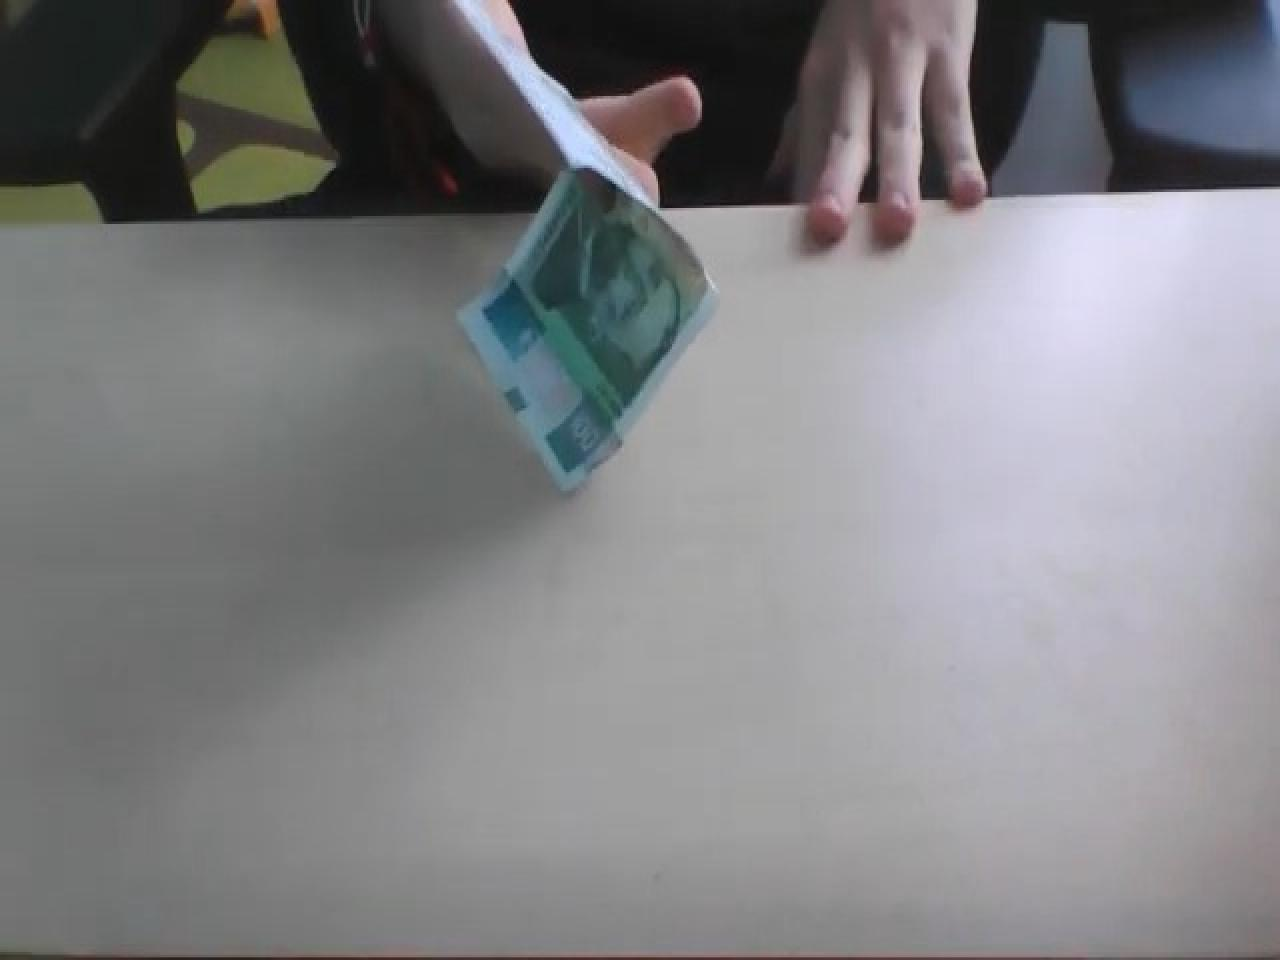100leva: (456, 162, 720, 496)
